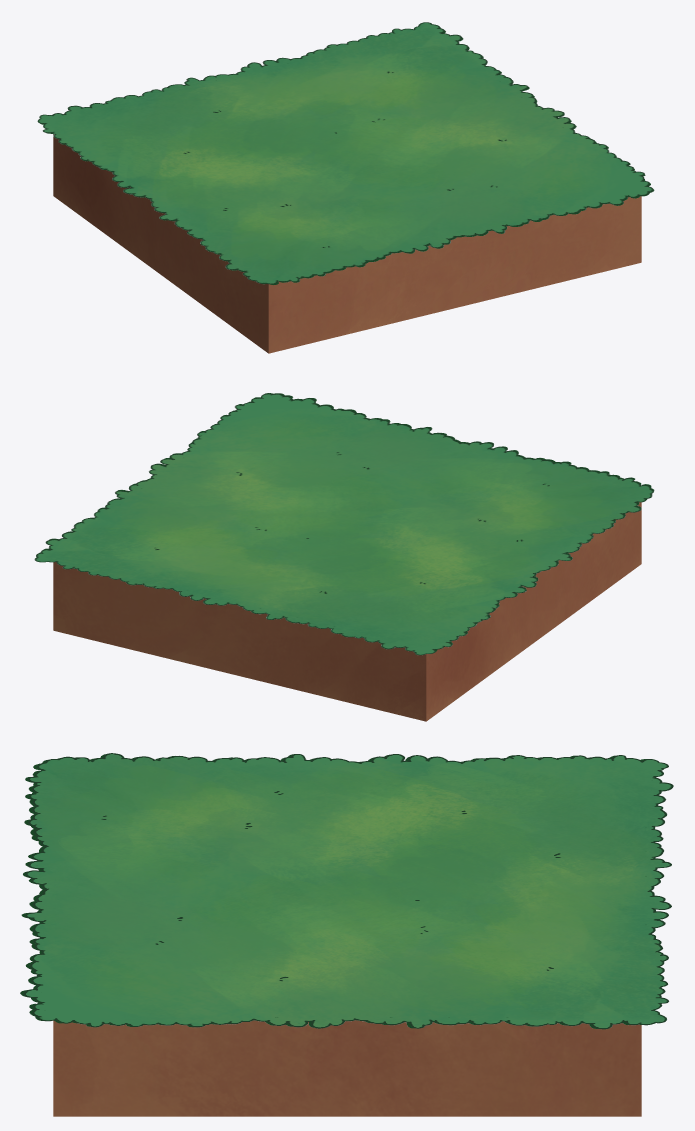
The model's file is SM_Island.fbx.
3 views of the same model, one above another, from view 1: azimuth 30°, elevation 25°; view 2: azimuth 150°, elevation 25°; view 3: azimuth 270°, elevation 25° (orthographic). The views are drawn at different scales.
Visible parts, largest first — view 1: SM_Island; view 2: SM_Island; view 3: SM_Island.
Part boxes in pixels (box(x1,y1,x2,y2)): SM_Island: box(37, 22, 654, 353); SM_Island: box(34, 393, 654, 721); SM_Island: box(20, 753, 673, 1116).
Size of the model in its own units: 1813 by 304 by 1813.
